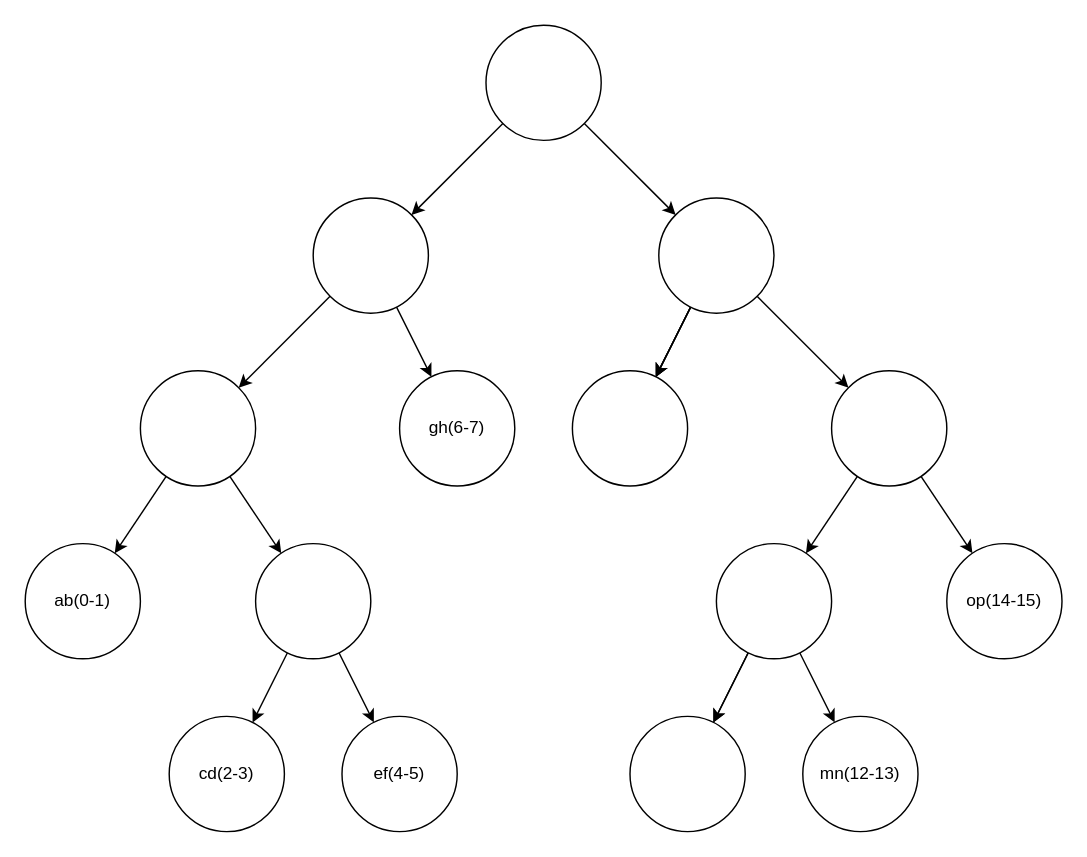
The diagram is 1087 pixels wide and 857 high, and some of its shapes have lost their labels. Here are the shapes that lost their labels. From the top down, the box of each, then its label:
(571, 369, 688, 486): ij(8-9)
(629, 715, 745, 832): kl(10-11)
